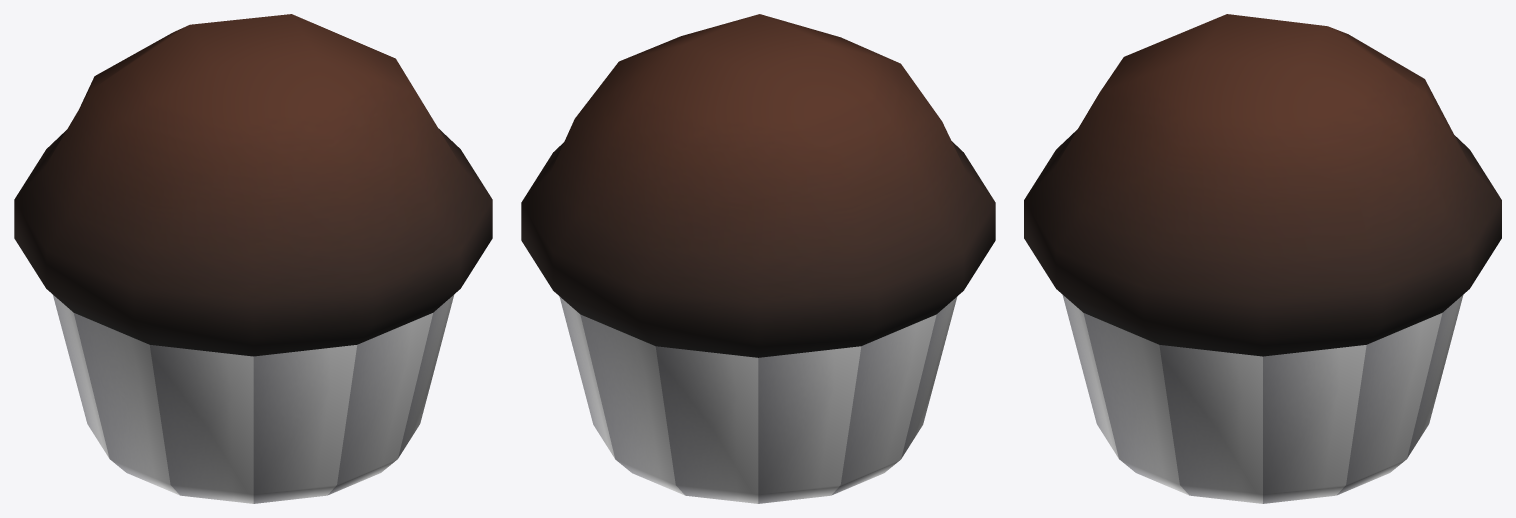
File: m_Cupcake10.fbx
The picture shows the model from 3 angles, left to right: view 1: azimuth 30°, elevation 25°; view 2: azimuth 150°, elevation 25°; view 3: azimuth 270°, elevation 25°; orthographic projection.
Visible parts, largest first — view 1: m_Cupcake10; view 2: m_Cupcake10; view 3: m_Cupcake10.
Boxes of the visible parts, box(x1,y1,x2,y2) form: m_Cupcake10: box(14, 14, 492, 503); m_Cupcake10: box(521, 14, 995, 503); m_Cupcake10: box(1024, 14, 1501, 503).
Size of the model in its own units: 11.39 by 10.53 by 11.39.
